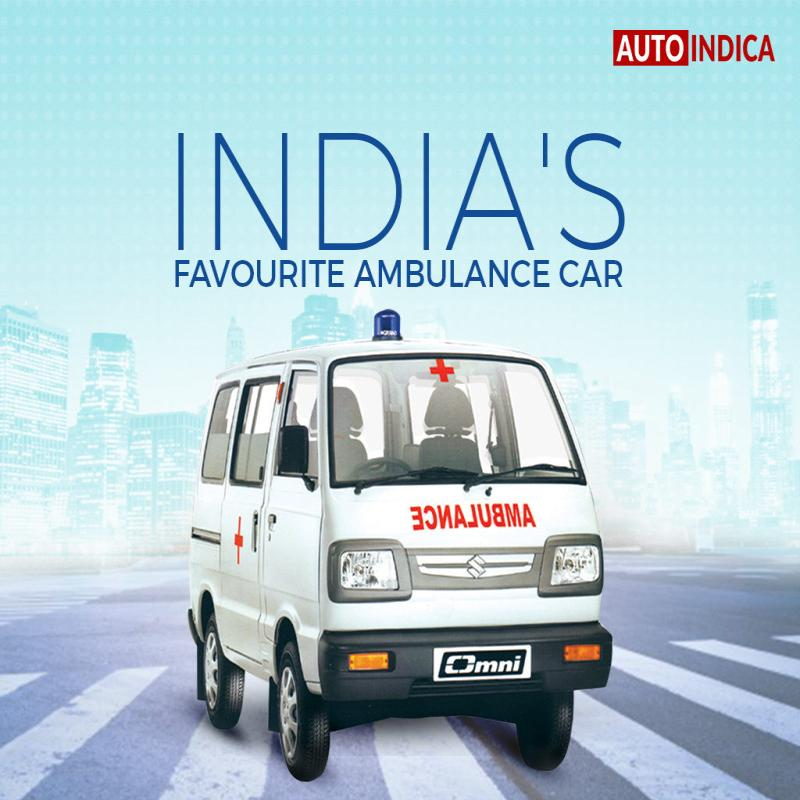ambulance: (184, 332, 638, 738)
